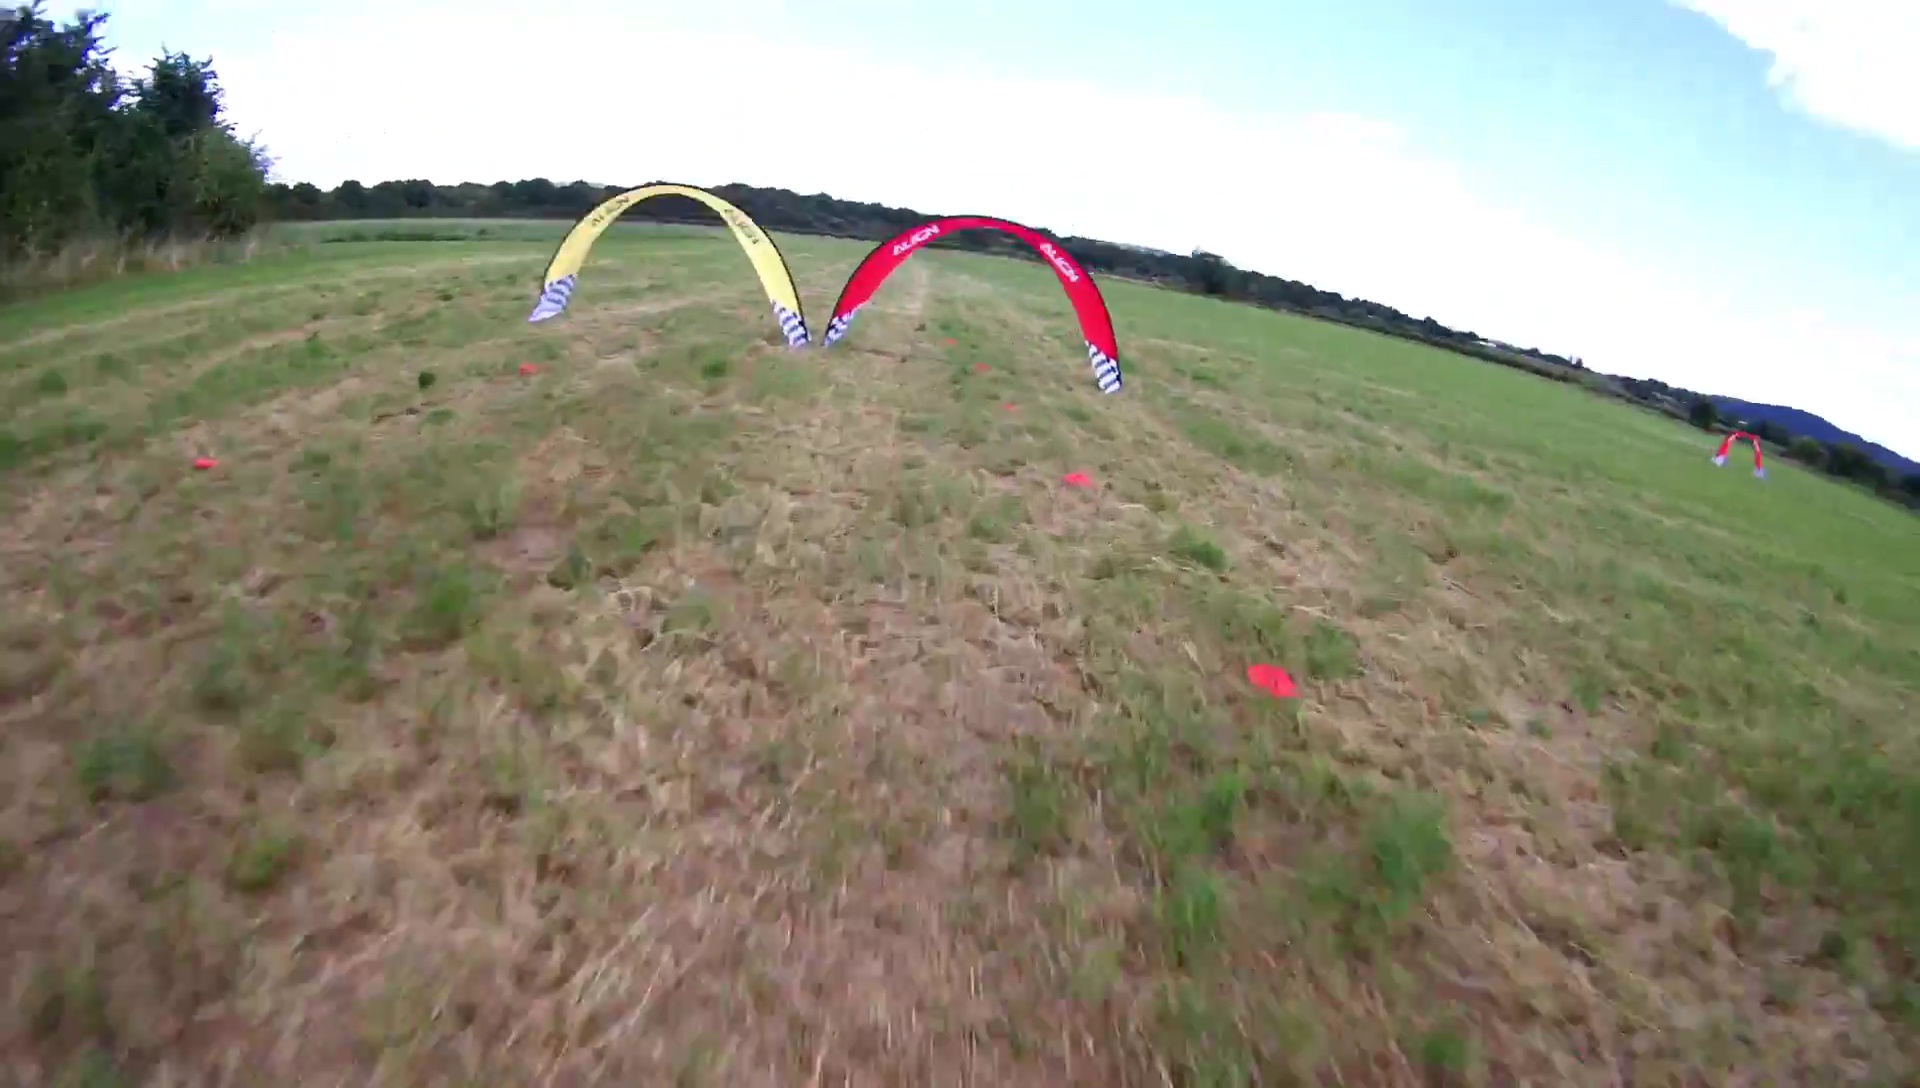gate: (818, 214, 1127, 396), (530, 181, 814, 351), (1712, 427, 1767, 479)
